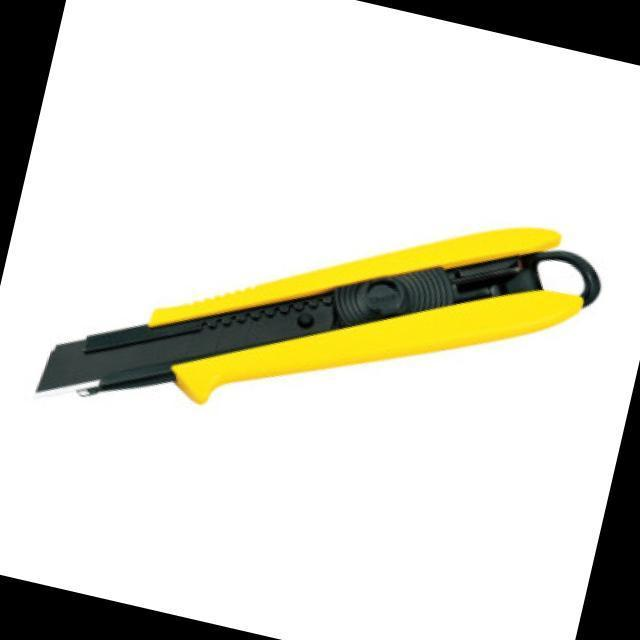cutter: (18, 116, 632, 540)
